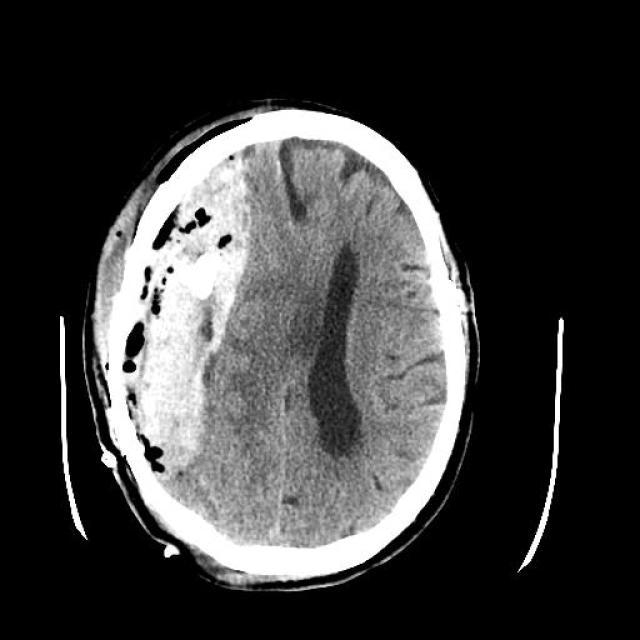Subdural: (100, 135, 270, 489)
